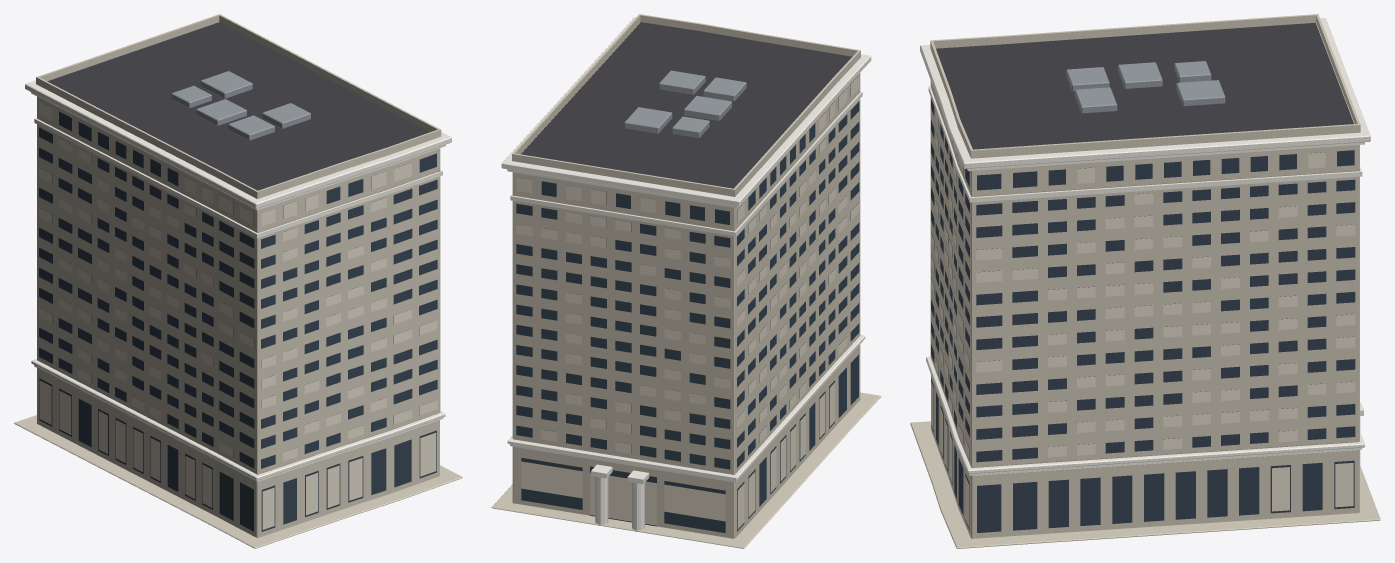
Rendered from california-bank-and-trust.glb.
3 views of the same model, side by side, from view 1: azimuth 30°, elevation 25°; view 2: azimuth 150°, elevation 25°; view 3: azimuth 270°, elevation 25° (orthographic). The views are drawn at different scales.
Parts seen in each view (by area): view 1: california-bank-and-trust_body, california-bank-and-trust_night_glow; view 2: california-bank-and-trust_body, california-bank-and-trust_night_glow; view 3: california-bank-and-trust_body, california-bank-and-trust_night_glow.
Part boxes in pixels (left/top/right/bottom): california-bank-and-trust_body: left=14, top=14, right=462, bottom=548; california-bank-and-trust_night_glow: left=38, top=101, right=437, bottom=529; california-bank-and-trust_body: left=491, top=14, right=881, bottom=548; california-bank-and-trust_night_glow: left=516, top=75, right=859, bottom=529; california-bank-and-trust_body: left=910, top=14, right=1380, bottom=548; california-bank-and-trust_night_glow: left=930, top=81, right=1355, bottom=527.
Bounding box in the file's own units: 50.3 × 59.4 × 64.99.
